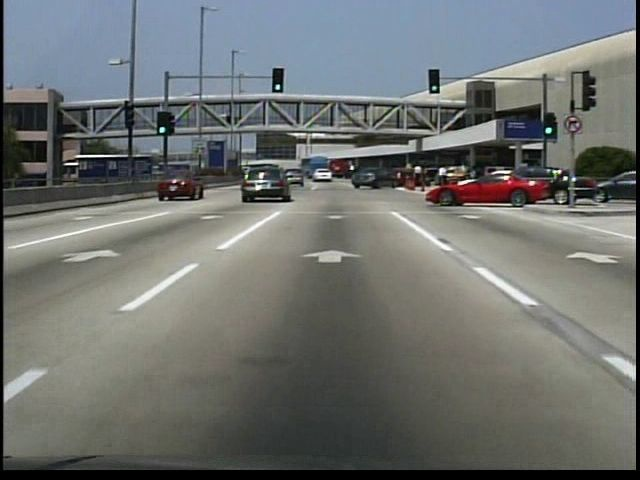person: (410, 159, 426, 188), (438, 160, 450, 183), (227, 107, 233, 122)
